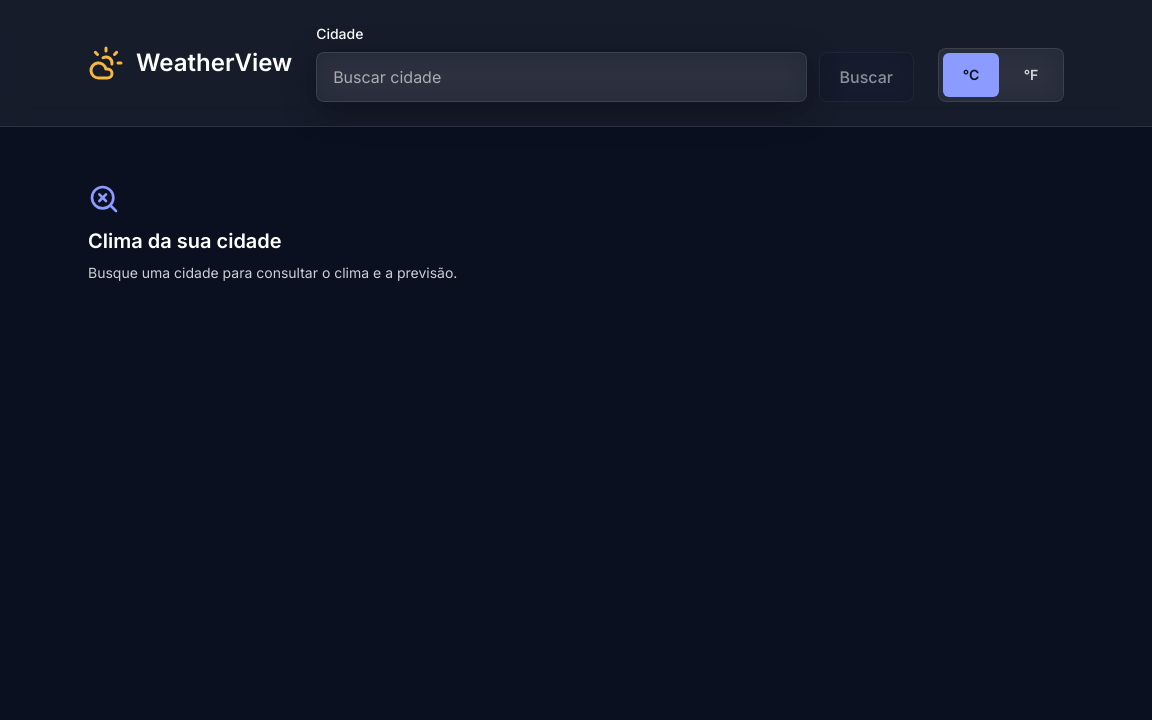
Test case: fluxo de busca (App + useWeather real) › a unidade escolhida persiste ao escolher cidade da lista
The image size is (1152, 720).
Type "Recife" into the search field.
click(561, 77); type("Recife")  # box [316,52,806,102]
Then press Enter
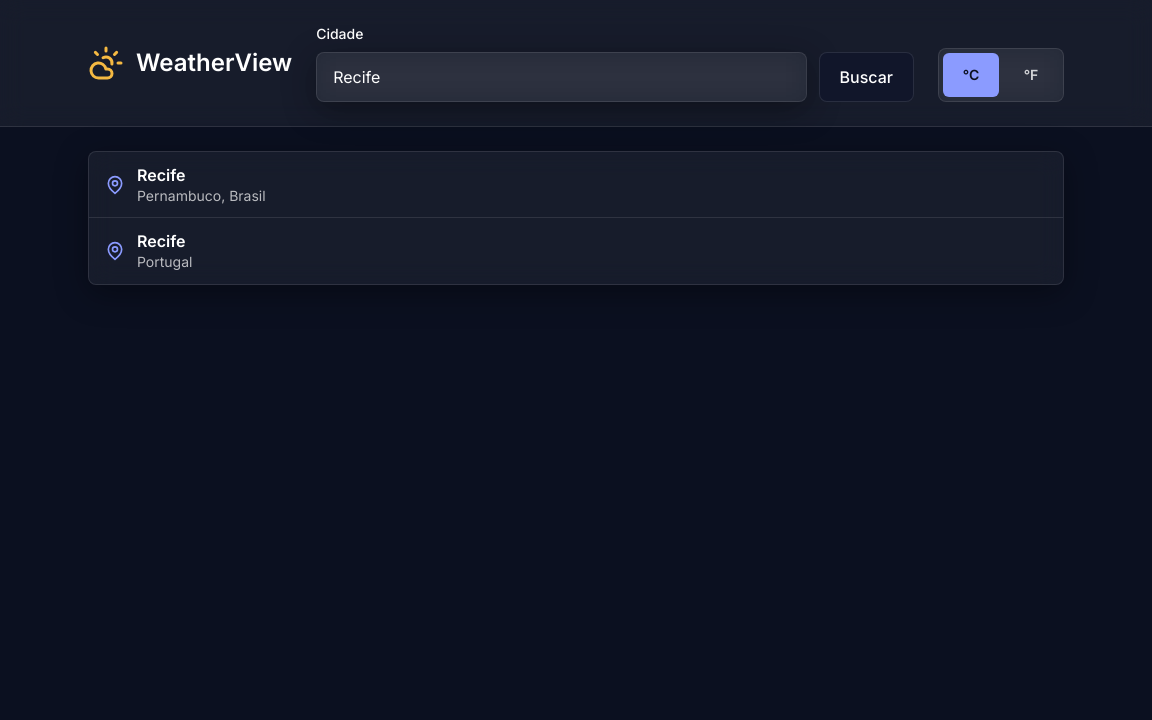
Click the button "°F".
click(1031, 75)  # box [1003,53,1059,97]
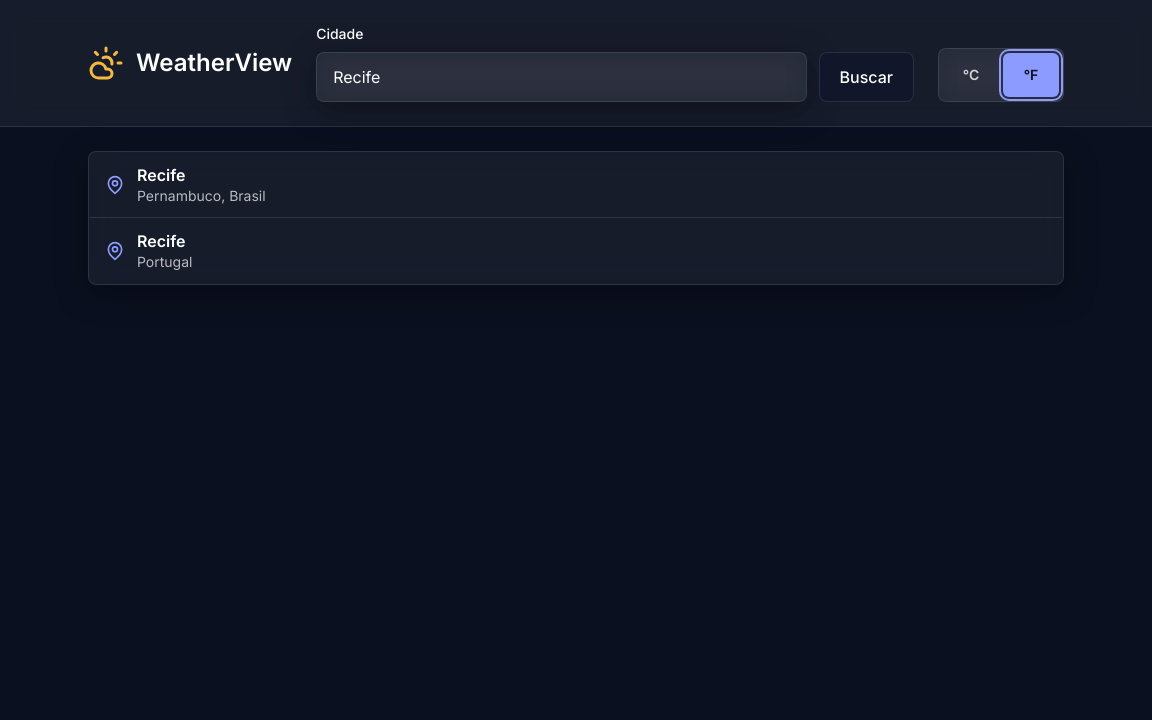
Click the button "Recife Portugal".
click(161, 241)  # box [89,218,1063,284]
(page scrolled)
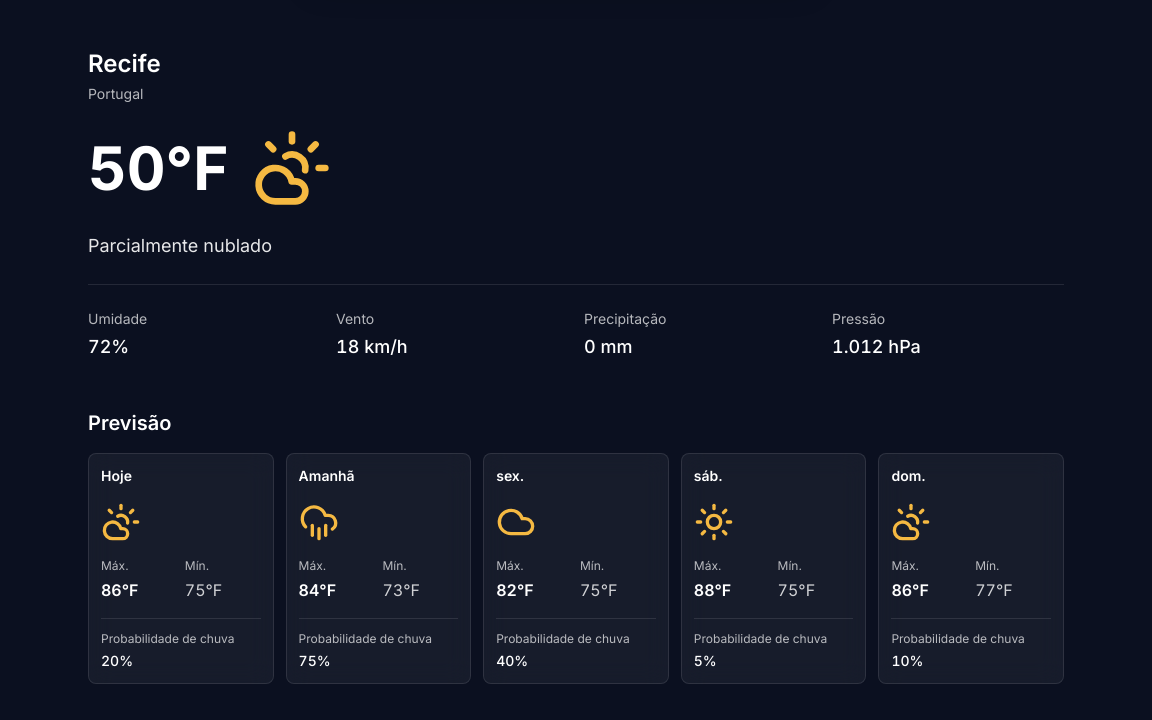
Expected: the text "50°F" is shown, [88,138,228,198]
